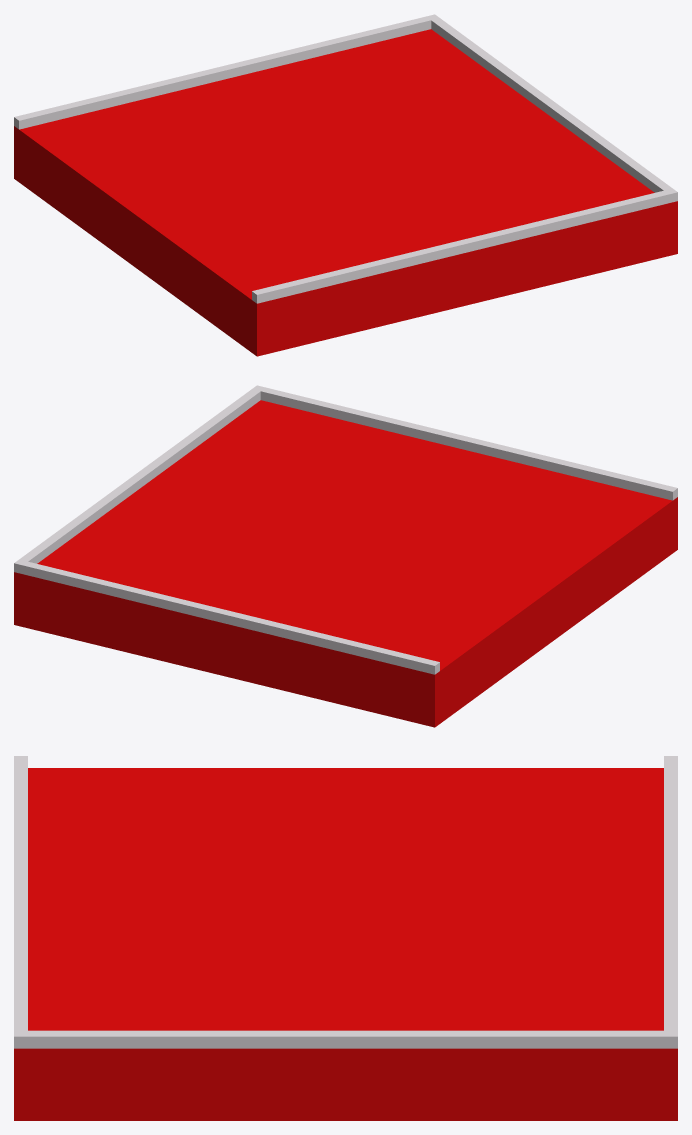
Rendered from 3side_border.glb.
The picture shows the model from 3 angles, top to bottom: view 1: azimuth 30°, elevation 25°; view 2: azimuth 150°, elevation 25°; view 3: azimuth 270°, elevation 25°; orthographic projection. The views are drawn at different scales.
Visible parts, largest first — view 1: 3side_border, center.003; view 2: 3side_border, center.003; view 3: 3side_border, center.003.
Part boxes in pixels (box(x1,y1,x2,y2)): 3side_border: box(14, 29, 677, 356); center.003: box(14, 14, 677, 303); 3side_border: box(14, 400, 677, 727); center.003: box(14, 385, 677, 674); 3side_border: box(14, 768, 677, 1120); center.003: box(14, 756, 677, 1048).
Size of the model in its own units: 1 by 0.14 by 1.
